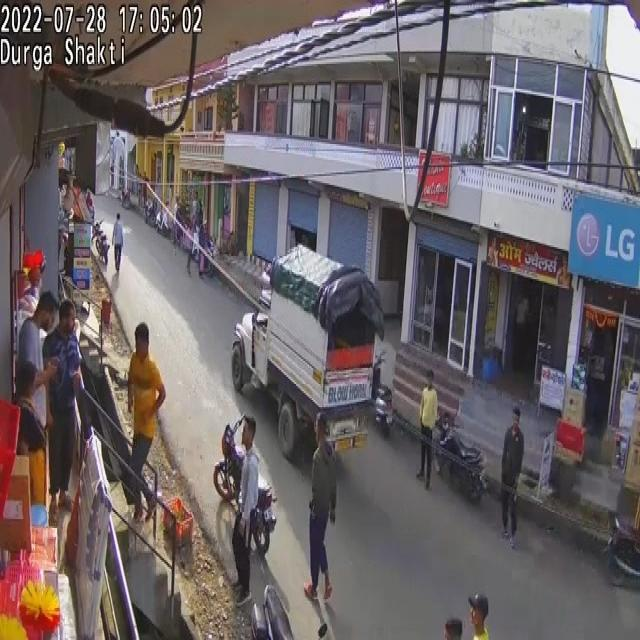non-fight: (16, 286, 56, 506), (44, 299, 84, 517), (126, 322, 166, 526), (230, 412, 262, 607), (304, 412, 336, 606), (500, 406, 524, 550), (417, 368, 438, 491), (238, 448, 260, 524), (198, 222, 214, 276), (186, 218, 200, 275), (112, 212, 124, 271), (188, 182, 200, 203)
